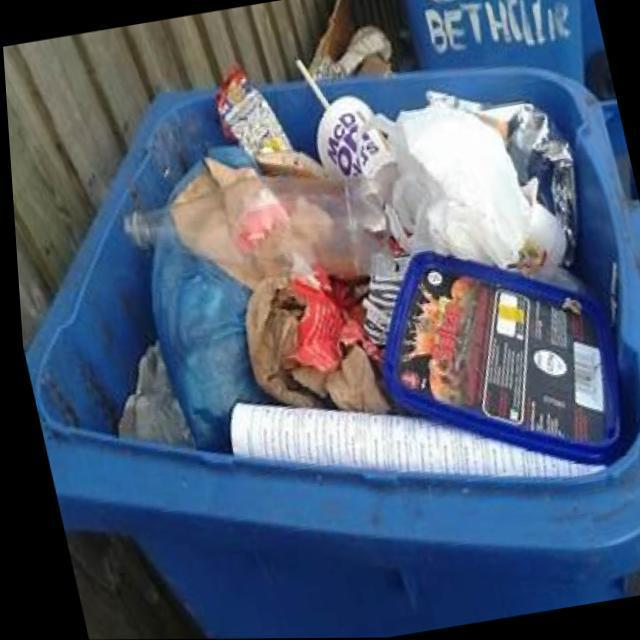Garbage: (113, 56, 613, 480)
Plastic_Bag: (148, 225, 268, 450)
Plastic_Container: (377, 249, 614, 464)
Plastic_Straw: (296, 58, 329, 113)
Plastic_bottle: (121, 175, 391, 287)
Plastic_wraper: (427, 93, 574, 265), (282, 270, 359, 374)
Tetrapack: (214, 64, 290, 156)
